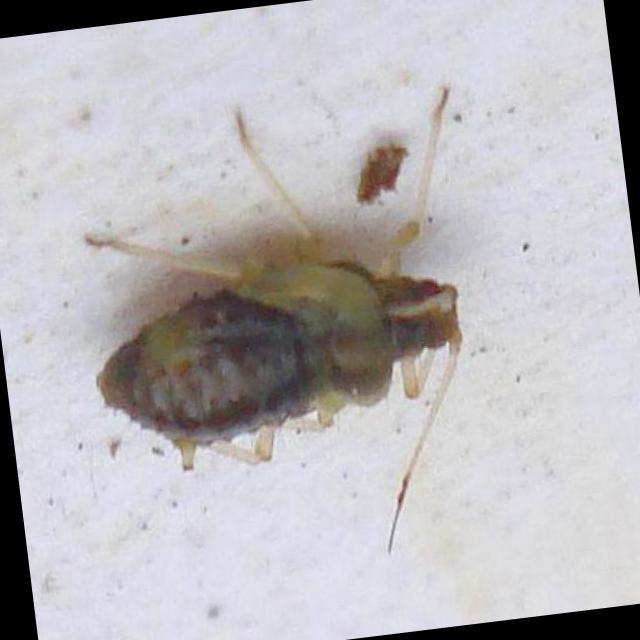aphid: (48, 82, 520, 534)
